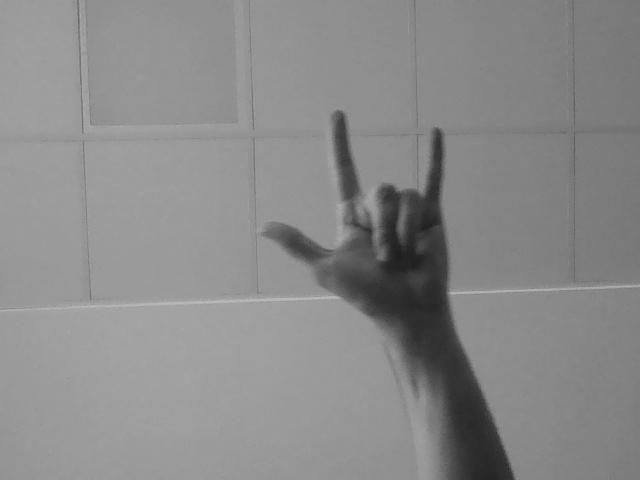I_Love_You: (264, 99, 491, 313)
